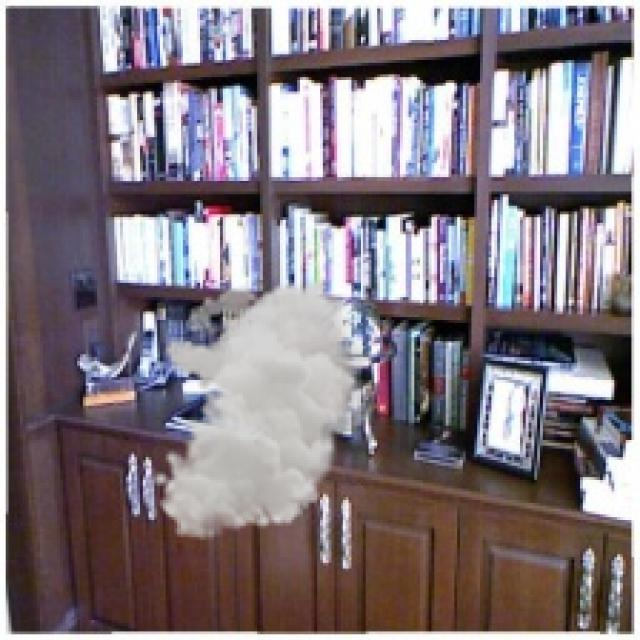smoke: (151, 277, 380, 540)
